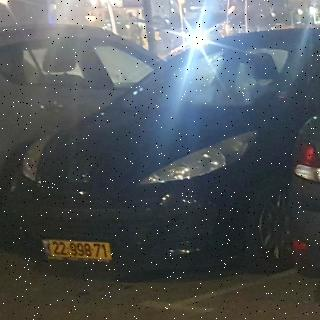LicensePlate: (48, 240, 113, 260)
